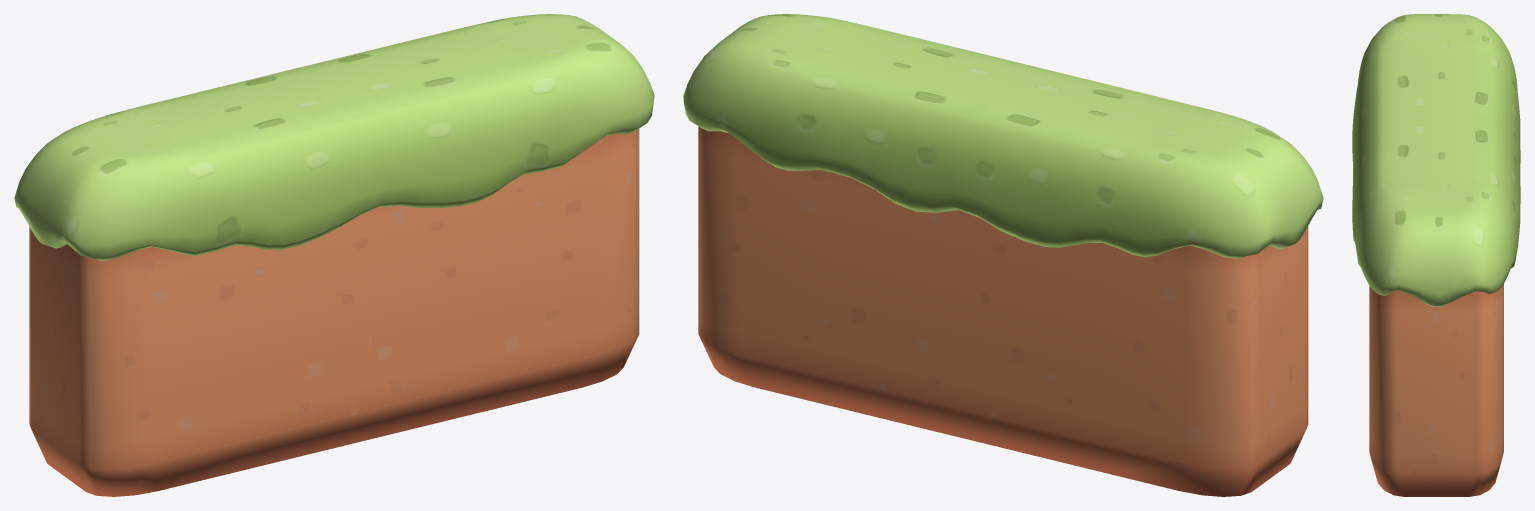
Rendered from basicPlatform_2x1.fbx.
The picture shows the model from 3 angles, left to right: view 1: azimuth 30°, elevation 25°; view 2: azimuth 150°, elevation 25°; view 3: azimuth 270°, elevation 25°; orthographic projection. The views are drawn at different scales.
Visible parts, largest first — view 1: basicPlatform_2x1; view 2: basicPlatform_2x1; view 3: basicPlatform_2x1.
Boxes of the visible parts, box(x1,y1,x2,y2) form: basicPlatform_2x1: box(14, 14, 654, 496); basicPlatform_2x1: box(683, 14, 1323, 496); basicPlatform_2x1: box(1352, 14, 1520, 496).
Bounding box in the file's own units: 424 × 223 × 125.
